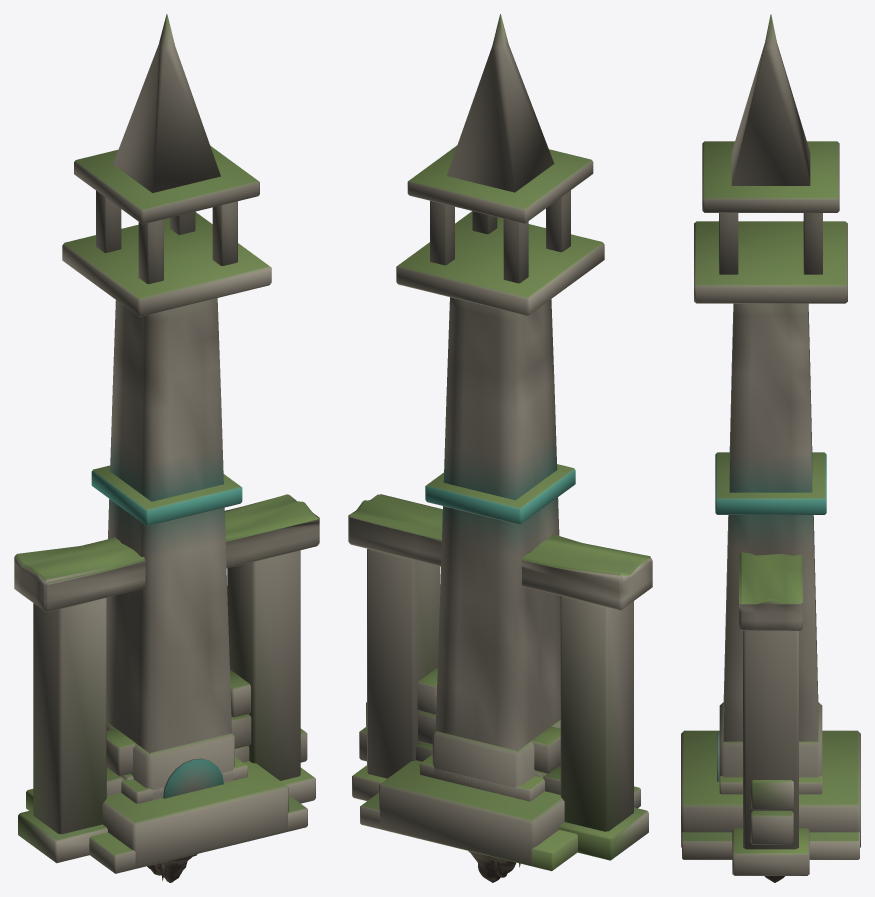
File: isles.glb
3 views of the same model, side by side, from view 1: azimuth 30°, elevation 25°; view 2: azimuth 150°, elevation 25°; view 3: azimuth 270°, elevation 25° (orthographic).
Visible parts, largest first — view 1: RuinTower, RuinArch, RuinBlock, RuinStairs, RuinWall; view 2: RuinTower, RuinArch, RuinBlock, RuinStairs, RuinWall; view 3: RuinTower, RuinArch, RuinStairs, RuinWall, RuinBlock.
Boxes of the visible parts, x1,y1,x2,y2 form: RuinTower: (62,14,288,867); RuinArch: (14,494,319,863); RuinBlock: (106,722,234,800); RuinStairs: (26,757,307,873); RuinWall: (106,670,307,795); RuinTower: (379,14,604,864); RuinArch: (348,494,652,860); RuinBlock: (432,720,560,797); RuinStairs: (360,754,640,871); RuinWall: (359,667,560,794); RuinTower: (681,14,860,847); RuinArch: (732,552,809,875); RuinStairs: (682,775,859,859); RuinWall: (750,780,793,844); RuinBlock: (717,702,822,781).
Size of the model in its own units: 7.4 by 22.31 by 4.2.
